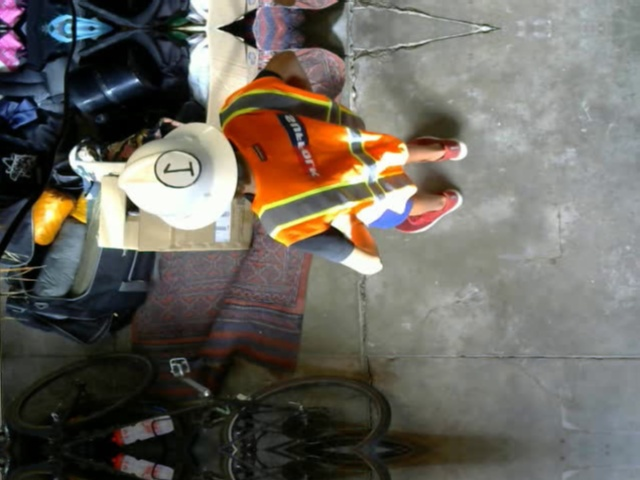one: (155, 149, 200, 186)
